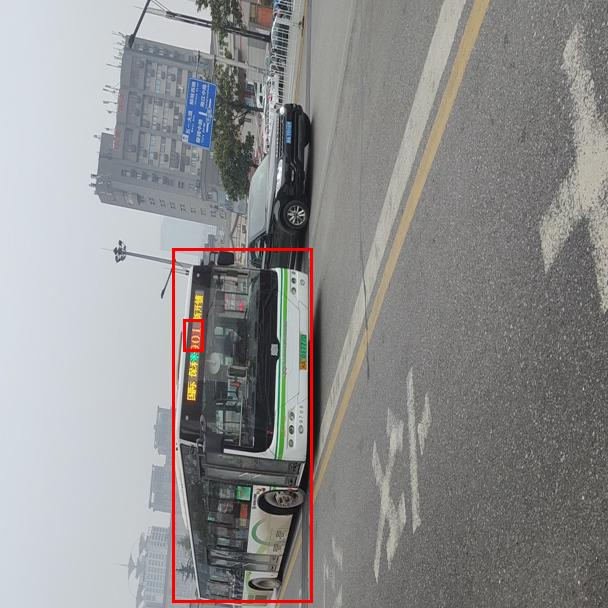bus: (172, 248, 312, 602)
screen: (183, 319, 203, 351)
